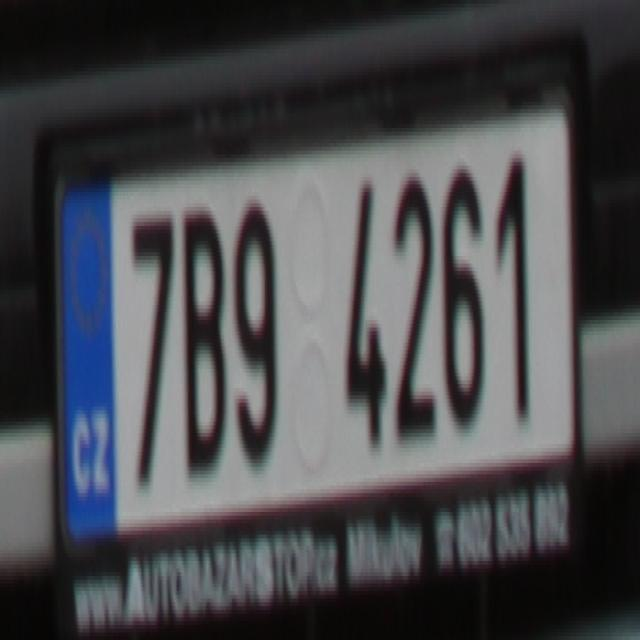1: (497, 154, 533, 418)
2: (392, 173, 434, 437)
4: (343, 184, 389, 448)
6: (443, 170, 484, 422)
7: (128, 211, 174, 489)
9: (233, 200, 279, 463)
B: (180, 200, 223, 478)
